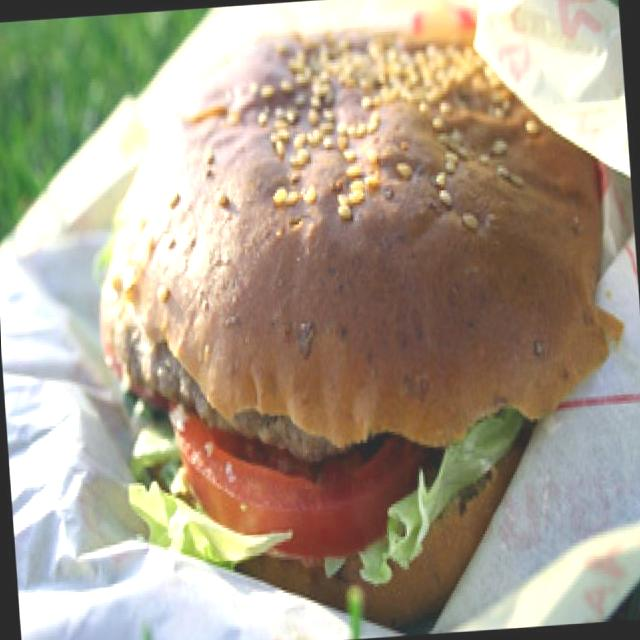Hamburger: (83, 10, 625, 613)
